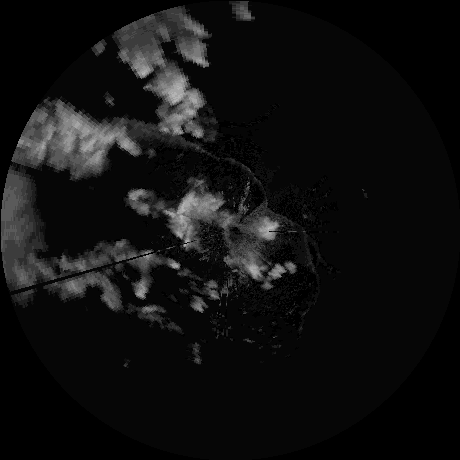frontgust: (300, 230, 318, 275), (247, 167, 268, 205)
